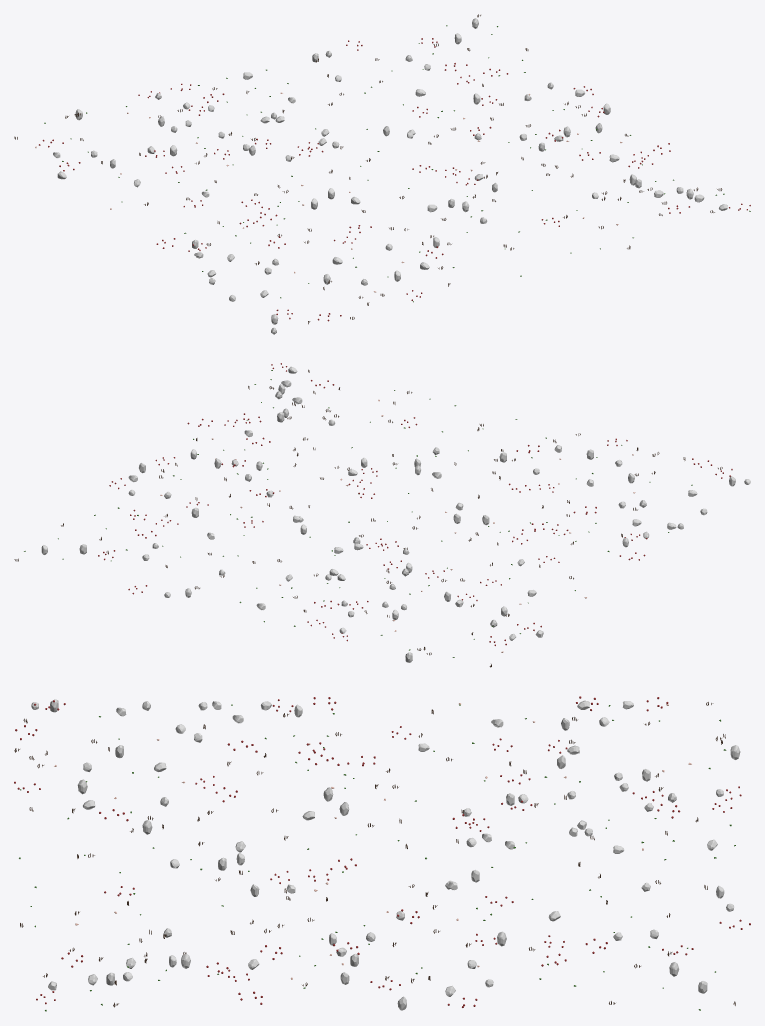
File: ground_stuff.fbx
3 views of the same model, one above another, from view 1: azimuth 30°, elevation 25°; view 2: azimuth 150°, elevation 25°; view 3: azimuth 270°, elevation 25° (orthographic). The views are drawn at different scales.
Size of the model in its own units: 26982 by 942 by 27261.
